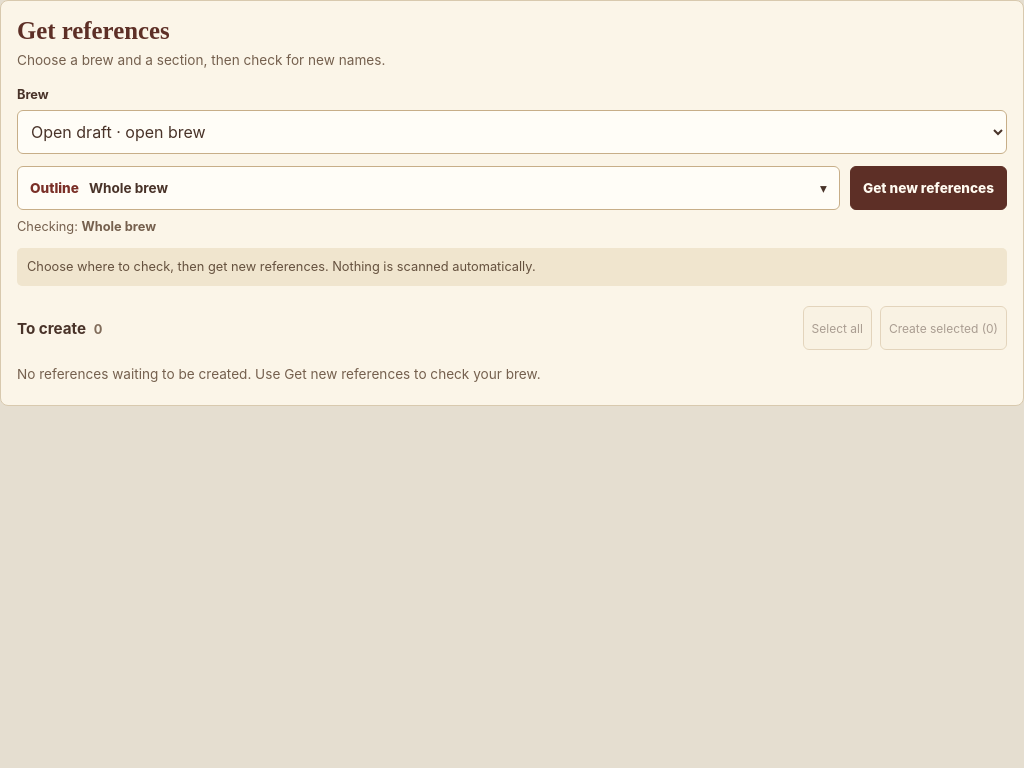
BrewReferenceScanner › opens a keyboard-free outline and selects a section including subsections
Click the button "Outline Whole brew ▾" at (54, 188), box [17, 166, 840, 210]
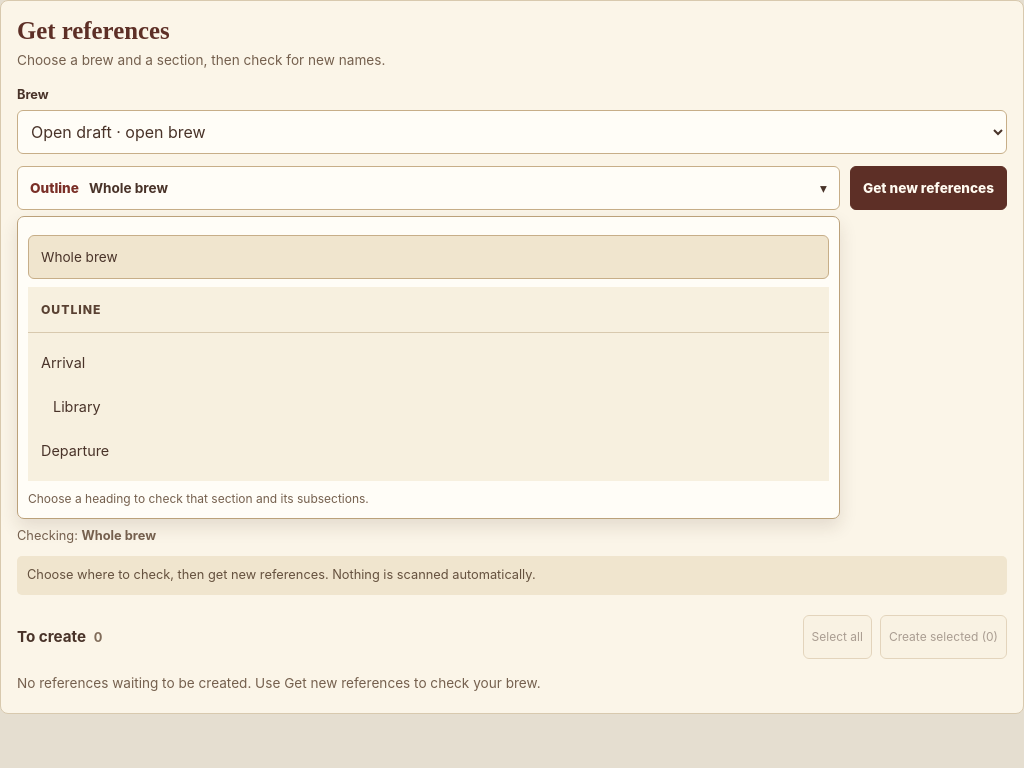
Click the button with class "outline-item" showing "Arrival" at (63, 363), box [28, 341, 829, 385]
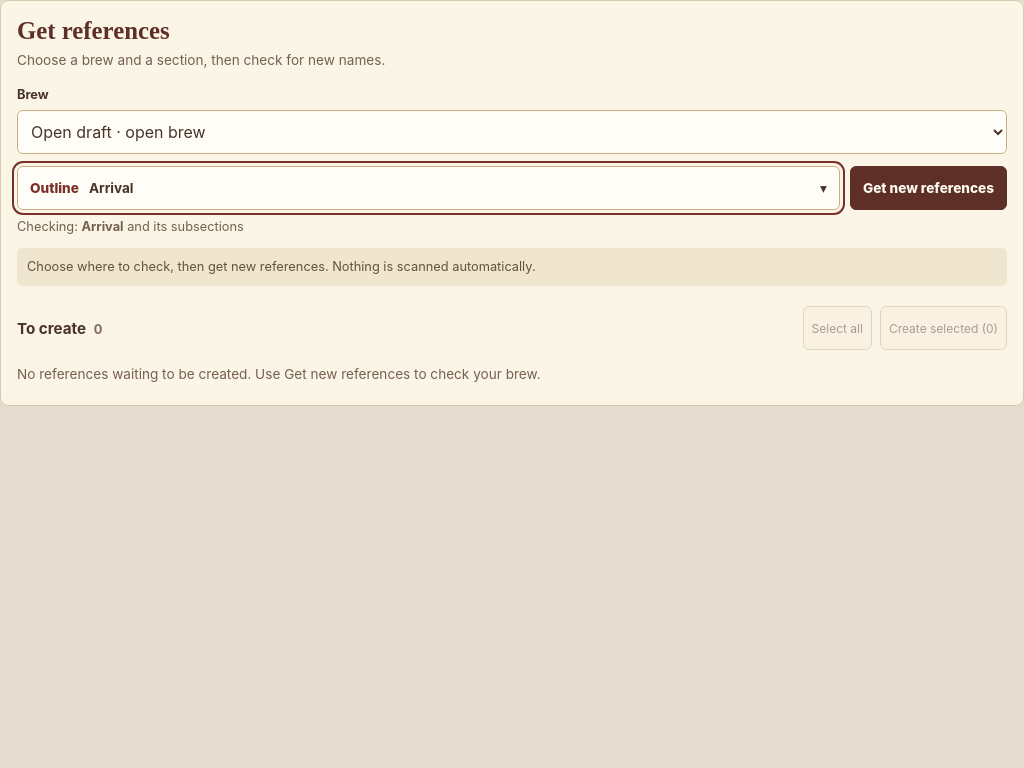
Now the element with class "brew-reference-selected-scope" shows "Arrival and its subsections", box [17, 219, 244, 234]
Click the button "Get new references" at (928, 188), box [850, 166, 1007, 210]
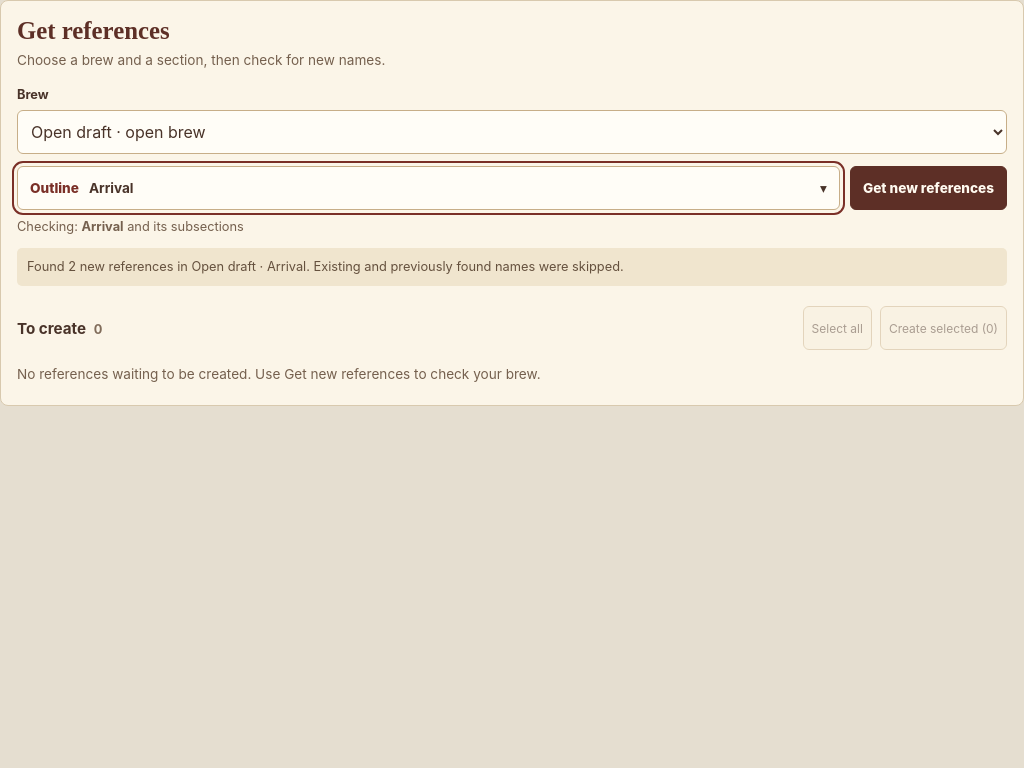
Now the text "Found 2 new references" is shown, box [27, 259, 624, 274]
